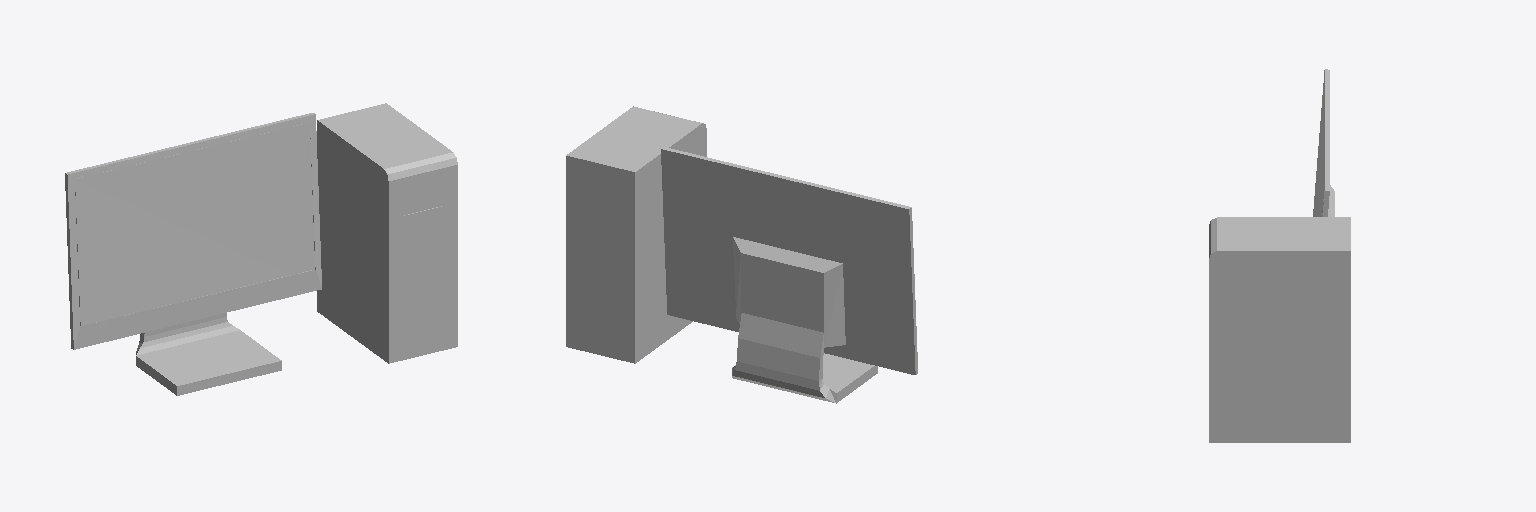
Rendered from COMPUTER.obj.
3 renders of one model, left to right at view 1: azimuth 30°, elevation 25°; view 2: azimuth 150°, elevation 25°; view 3: azimuth 270°, elevation 25°, orthographic.
Parts seen in each view (by area): view 1: Cube; view 2: Cube; view 3: Cube.
Boxes of the visible parts, x1,y1,x2,y2 form: Cube: [65, 103, 457, 395]; Cube: [566, 106, 917, 403]; Cube: [1209, 69, 1350, 442].
Size of the model in its own units: 5.37 by 3.26 by 2.